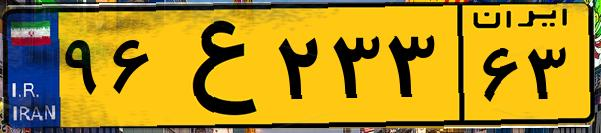2: (270, 28, 330, 110)
3: (385, 28, 445, 110), (330, 28, 385, 110), (525, 38, 570, 115)
6: (475, 38, 525, 113), (110, 28, 158, 98)
9: (57, 26, 110, 100)
ع: (158, 12, 270, 120)
